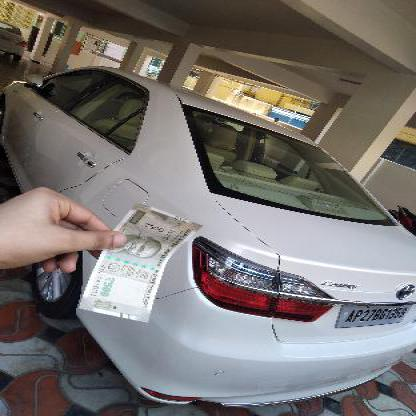New500Front: (79, 203, 201, 320)
